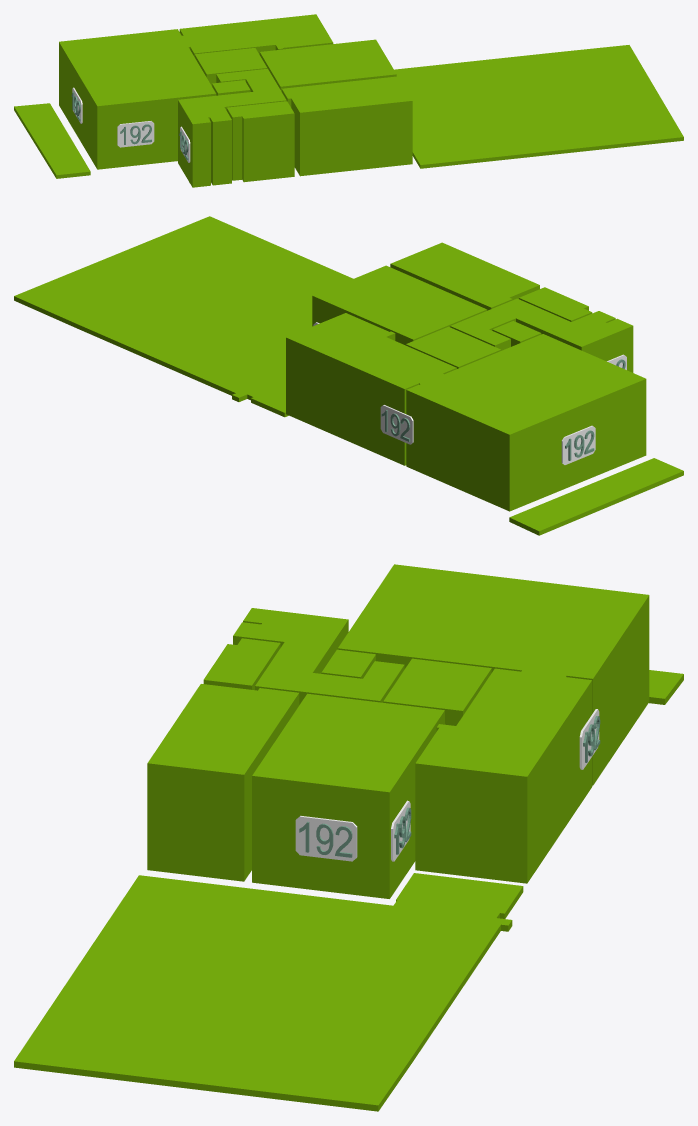
3 views of the same model, one above another, from view 1: azimuth 30°, elevation 25°; view 2: azimuth 150°, elevation 25°; view 3: azimuth 270°, elevation 25° (orthographic). The views are drawn at different scales.
Visible parts, largest first — view 1: g_9, g_7, g_0, g_5, g_6, g_1, g_2, g_8, g_3, g_17, g_4; view 2: g_9, g_7, g_2, g_1, g_5, g_0, g_8, g_3, g_6, g_29, g_13, g_4; view 3: g_9, g_7, g_2, g_1, g_0, g_5, g_3, g_6, g_33, g_4, g_8.
Part boxes in pixels (<box>): g_9: <box>394,45,683,168</box>; g_7: <box>59,29,216,169</box>; g_0: <box>281,76,412,176</box>; g_5: <box>178,68,286,187</box>; g_6: <box>226,101,294,182</box>; g_1: <box>259,39,396,91</box>; g_2: <box>179,14,333,56</box>; g_8: <box>14,103,90,178</box>; g_3: <box>194,48,267,86</box>; g_17: <box>117,121,154,147</box>; g_4: <box>212,80,250,95</box>; g_9: <box>14,216,353,417</box>; g_7: <box>406,334,646,511</box>; g_2: <box>286,313,456,465</box>; g_1: <box>312,265,487,345</box>; g_5: <box>450,298,633,372</box>; g_0: <box>390,242,539,310</box>; g_8: <box>509,458,683,535</box>; g_3: <box>406,326,501,368</box>; g_6: <box>519,287,592,321</box>; g_29: <box>561,425,595,464</box>; g_13: <box>380,405,413,444</box>; g_4: <box>492,321,541,346</box>; g_9: <box>14,873,523,1111</box>; g_7: <box>337,564,649,785</box>; g_2: <box>415,668,592,883</box>; g_1: <box>252,693,444,898</box>; g_0: <box>147,684,299,881</box>; g_5: <box>233,608,404,704</box>; g_3: <box>383,658,491,725</box>; g_6: <box>203,638,280,690</box>; g_33: <box>295,815,357,861</box>; g_4: <box>321,649,375,678</box>; g_8: <box>649,670,683,704</box>.
Size of the model in its own units: 23.94 by 2.74 by 14.63.
